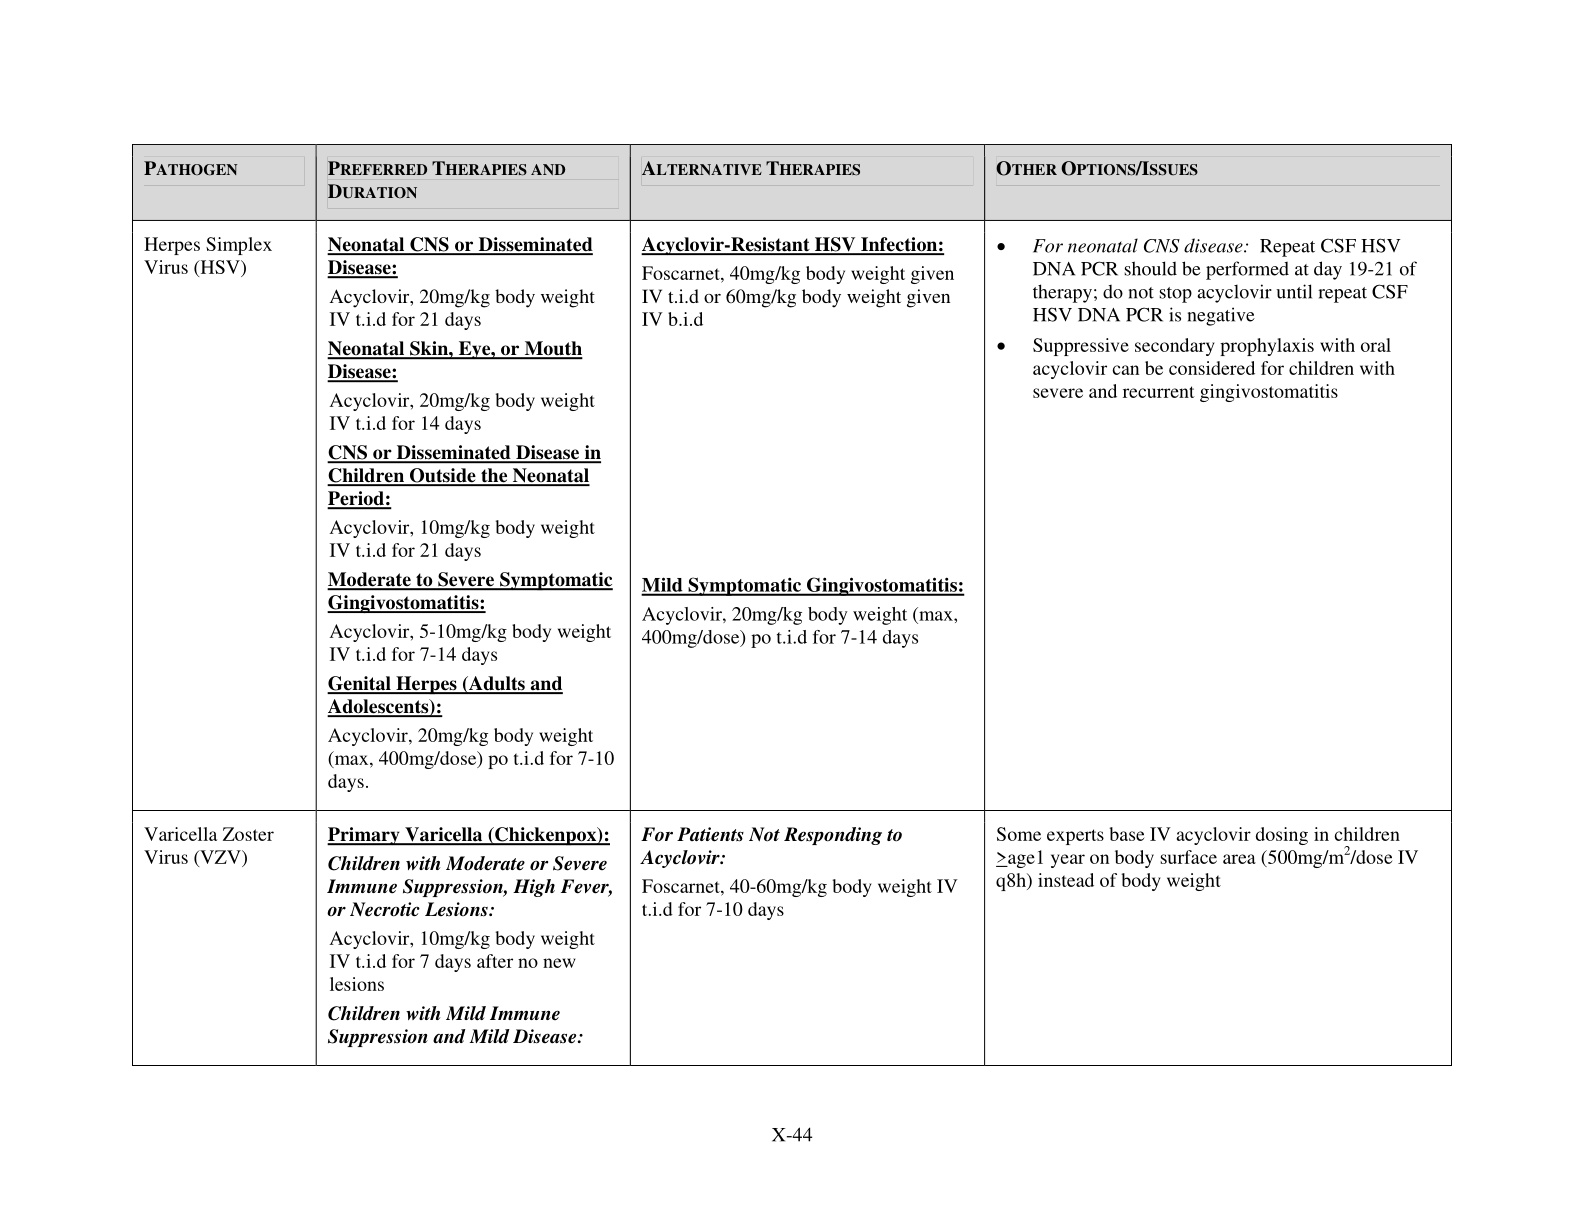full_lined: (131, 143, 1453, 1067)
